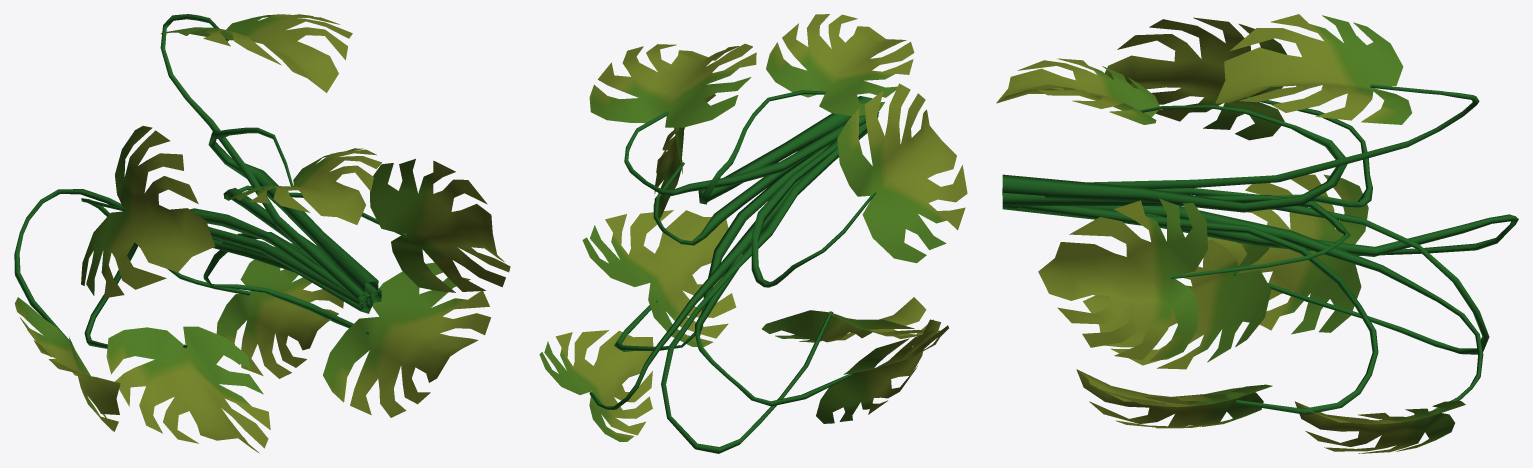
File: plant-b.glb
3 renders of one model, left to right at view 1: azimuth 30°, elevation 25°; view 2: azimuth 150°, elevation 25°; view 3: azimuth 270°, elevation 25°, orthographic. The views are drawn at different scales.
Parts seen in each view (by area): view 1: flower_021; view 2: flower_021; view 3: flower_021.
Part boxes in pixels (x1,y1,x2,y2): flower_021: [14, 14, 510, 453]; flower_021: [539, 14, 967, 453]; flower_021: [996, 14, 1518, 453].
Bounding box in the file's own units: 1.65 × 1.5 × 1.79.
Materials: 1 (1 with a texture image).
